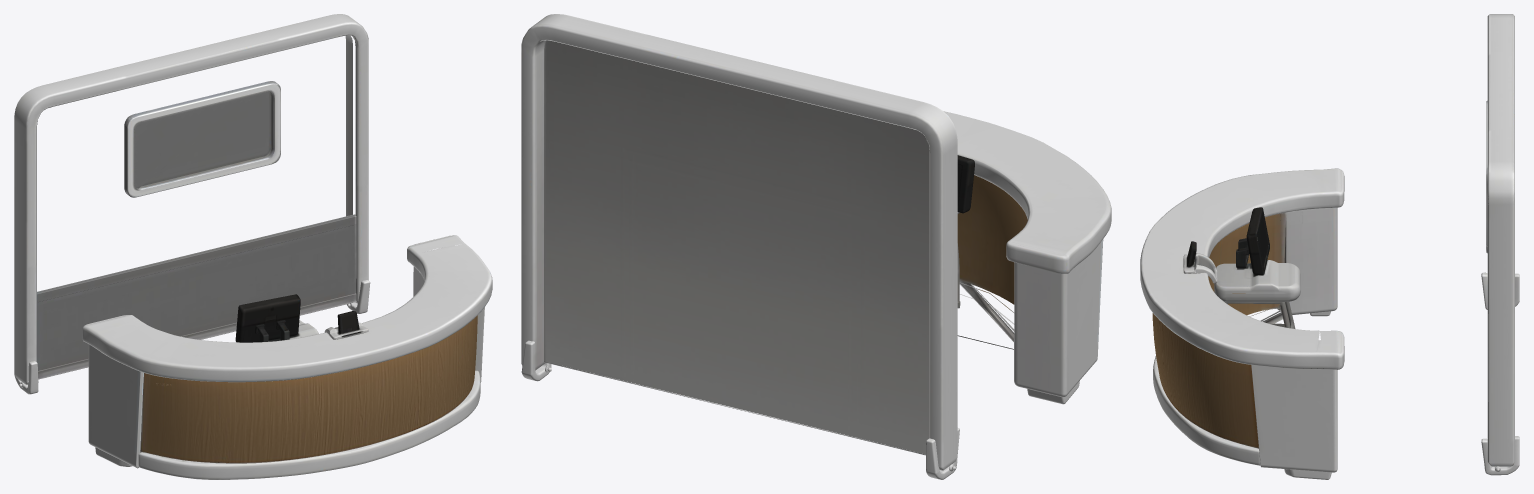
The model's file is toonstudio_hospital_reception.glb.
3 renders of one model, left to right at view 1: azimuth 30°, elevation 25°; view 2: azimuth 150°, elevation 25°; view 3: azimuth 270°, elevation 25°, orthographic. The views are drawn at different scales.
Parts seen in each view (by area): view 1: tripo_103f62e0_e4bc_4370_88b9_6182d4eb1cdd; view 2: tripo_103f62e0_e4bc_4370_88b9_6182d4eb1cdd; view 3: tripo_103f62e0_e4bc_4370_88b9_6182d4eb1cdd.
Boxes of the visible parts, x1=… form: tripo_103f62e0_e4bc_4370_88b9_6182d4eb1cdd: x1=14, y1=14, x2=492, y2=479; tripo_103f62e0_e4bc_4370_88b9_6182d4eb1cdd: x1=521, y1=14, x2=1111, y2=479; tripo_103f62e0_e4bc_4370_88b9_6182d4eb1cdd: x1=1140, y1=14, x2=1519, y2=479.
Size of the model in its own units: 4 by 3 by 3.43.
1 material, 1 textured.
